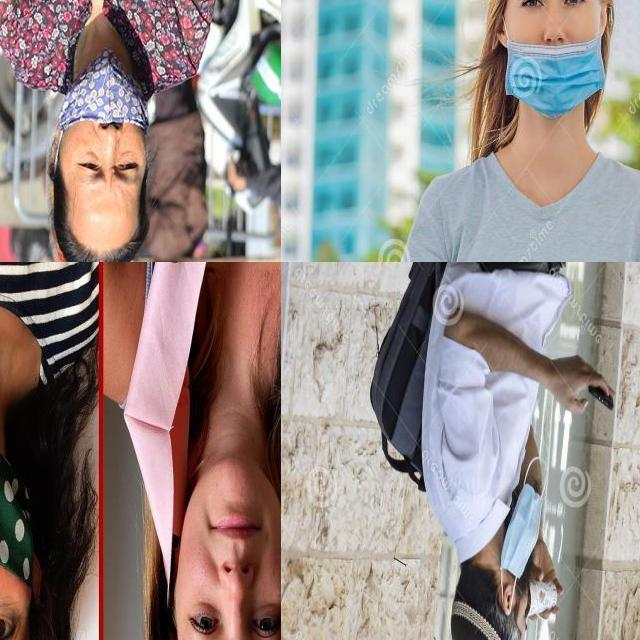hairnet: (504, 23, 608, 120), (57, 52, 151, 149)
